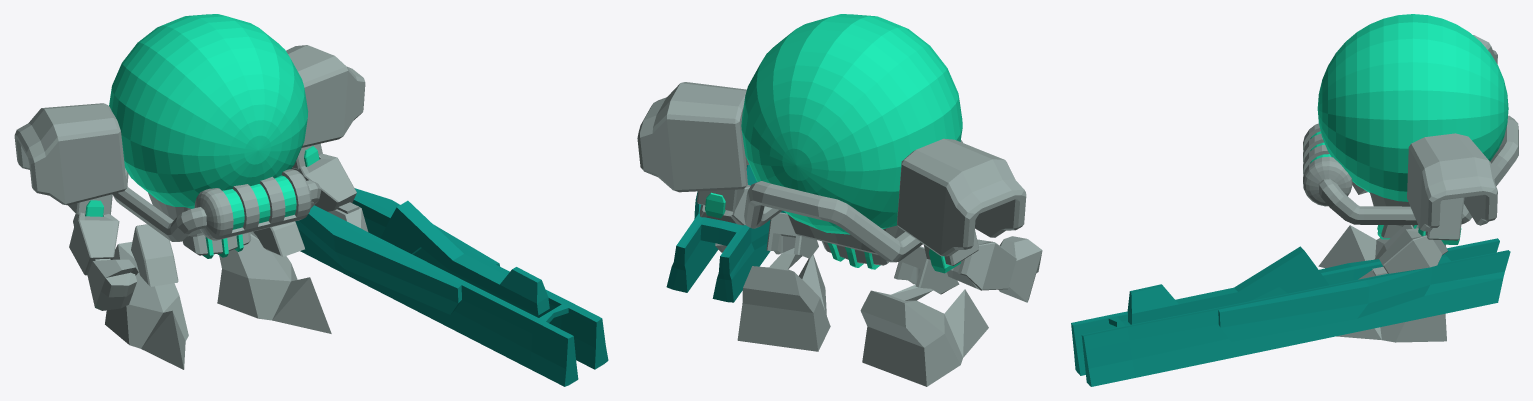
File: New_shocktrooper.fbx
3 renders of one model, left to right at view 1: azimuth 30°, elevation 25°; view 2: azimuth 150°, elevation 25°; view 3: azimuth 270°, elevation 25°, orthographic. The views are drawn at different scales.
Visible parts, largest first — view 1: Head, gun, R_pad, Mask, L_foot, R_foot, L_pad, R_hand, R_fist, R_leg, L_fist, L_leg (+3 smaller); view 2: Head, R_pad, L_pad, R_foot, L_foot, gun, Mask, R_fist, R_hand, R_leg, L_leg, L_arm (+5 smaller); view 3: gun, Head, L_pad, Mask, L_fist, L_foot, R_foot, L_arm.
Part boxes in pixels (x1,y1,x2,y2): Head: [109, 14, 308, 236]; gun: [295, 188, 608, 386]; R_pad: [14, 103, 126, 205]; Mask: [112, 168, 321, 241]; L_foot: [217, 234, 331, 333]; R_foot: [105, 242, 188, 369]; L_pad: [286, 45, 365, 147]; R_hand: [87, 258, 138, 310]; R_fist: [69, 212, 119, 275]; R_leg: [131, 224, 178, 286]; L_fist: [291, 153, 356, 211]; L_leg: [253, 221, 304, 256]; Head: [741, 14, 962, 254]; R_pad: [897, 138, 1026, 256]; L_pad: [637, 82, 749, 192]; R_foot: [860, 289, 988, 386]; L_foot: [737, 254, 830, 351]; gun: [666, 165, 785, 302]; Mask: [744, 140, 962, 262]; R_fist: [947, 239, 1016, 290]; R_hand: [998, 236, 1042, 302]; R_leg: [894, 246, 959, 294]; L_leg: [766, 212, 818, 258]; L_arm: [696, 157, 747, 218]; gun: [1071, 238, 1510, 386]; Head: [1317, 14, 1508, 206]; L_pad: [1407, 133, 1497, 231]; Mask: [1303, 115, 1518, 224]; L_fist: [1379, 228, 1447, 273]; L_foot: [1336, 247, 1446, 342]; R_foot: [1318, 225, 1445, 268]; L_arm: [1418, 197, 1464, 244].
Bounding box in the file's own units: 22.46 × 15.82 × 22.97.
Materials: 2 (2 with a texture image).
